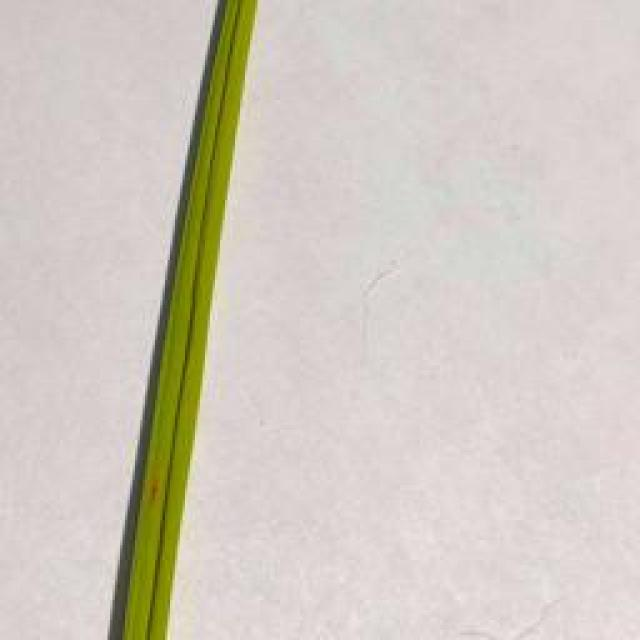Brown_Spot: (146, 476, 166, 502)
